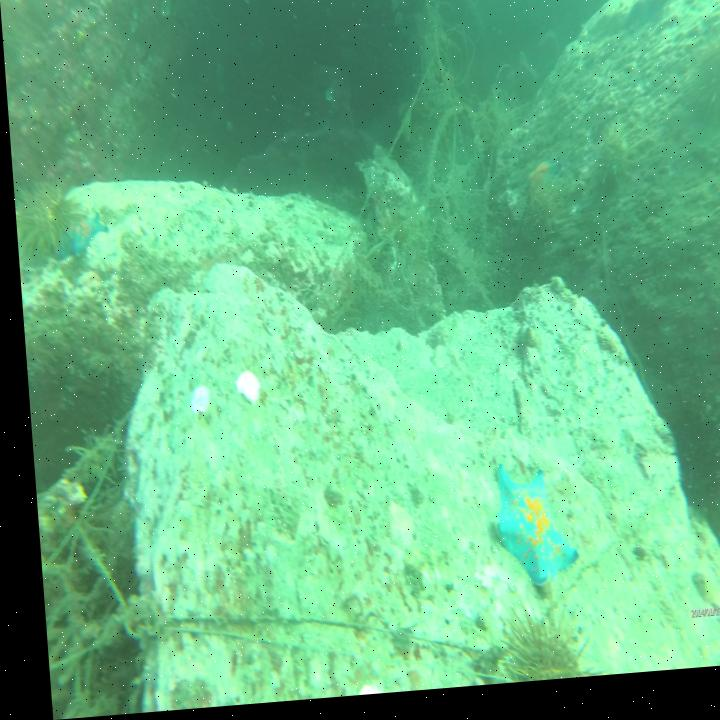echinus: (585, 133, 630, 201), (687, 49, 720, 135), (650, 0, 706, 10)
starfish: (481, 464, 570, 603), (11, 175, 76, 263), (46, 211, 105, 264), (623, 0, 663, 38), (521, 167, 556, 208)
